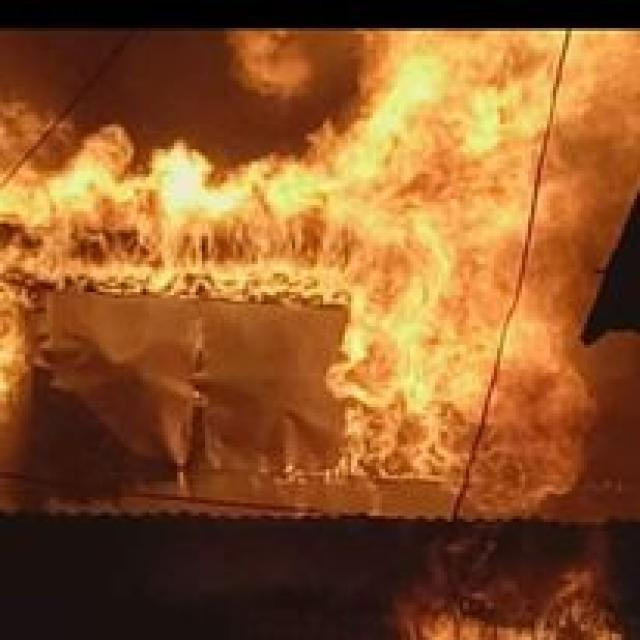Fire: (0, 6, 640, 526), (419, 590, 626, 640)
